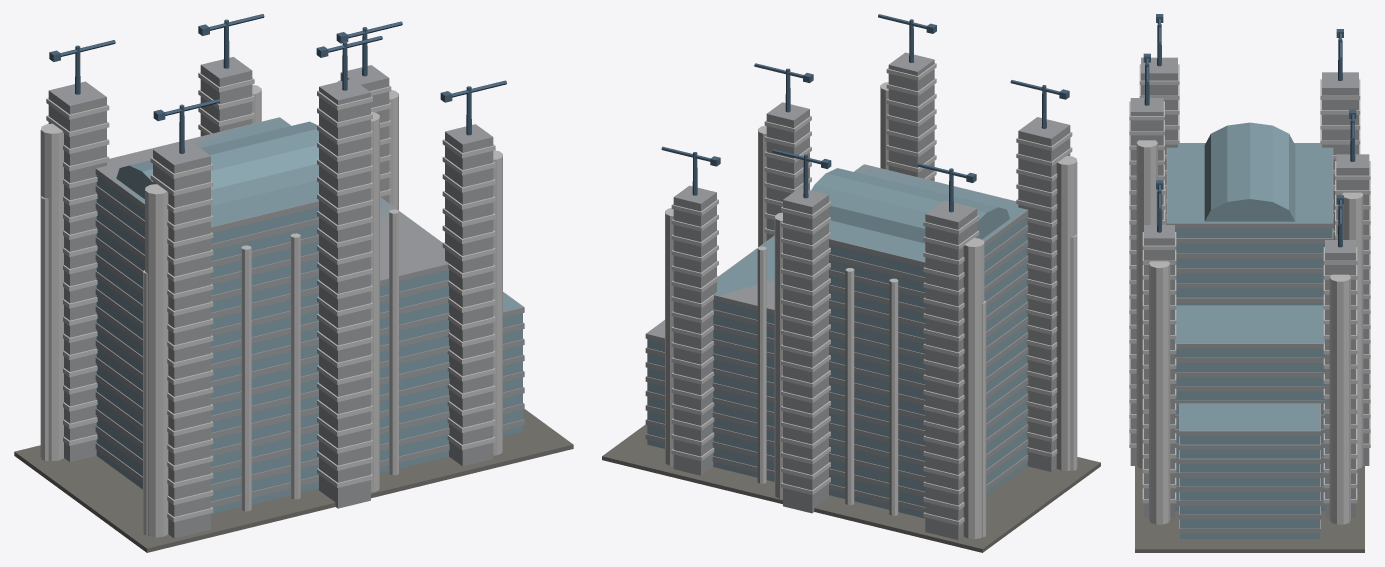
The model's file is lloyds_building.glb.
3 renders of one model, left to right at view 1: azimuth 30°, elevation 25°; view 2: azimuth 150°, elevation 25°; view 3: azimuth 270°, elevation 25°, orthographic. The views are drawn at different scales.
Visible parts, largest first — view 1: lloyds_building; view 2: lloyds_building; view 3: lloyds_building.
Part boxes in pixels (x1,y1,x2,y2): lloyds_building: (14, 14, 573, 552); lloyds_building: (602, 14, 1100, 552); lloyds_building: (1129, 14, 1370, 552).
Size of the model in its own units: 104 by 106 by 58.7.
